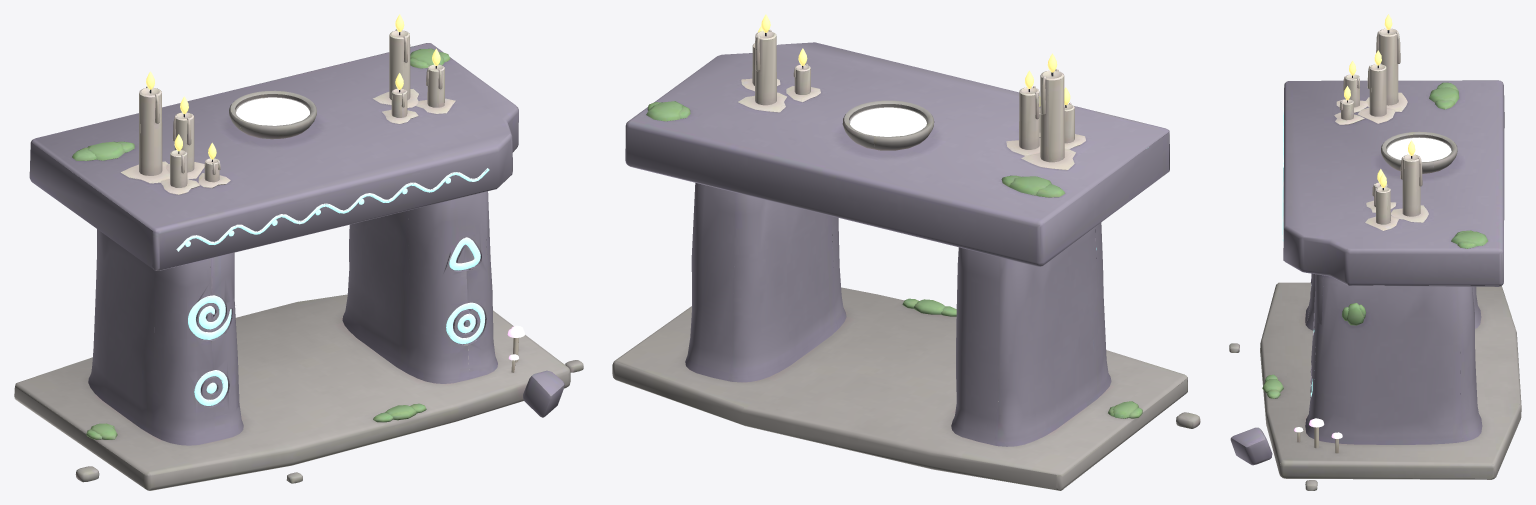
The model's file is altar_antiguo.glb.
3 renders of one model, left to right at view 1: azimuth 30°, elevation 25°; view 2: azimuth 150°, elevation 25°; view 3: azimuth 270°, elevation 25°, orthographic. The views are drawn at different scales.
Parts seen in each view (by area): view 1: ancient-altar_body; view 2: ancient-altar_body; view 3: ancient-altar_body.
Part boxes in pixels (x1,y1,x2,y2): ancient-altar_body: (14, 14, 583, 490); ancient-altar_body: (612, 14, 1200, 490); ancient-altar_body: (1229, 14, 1521, 490).
Size of the model in its own units: 1.94 by 1.35 by 1.14.
Materials: 5 (1 with a texture image).
